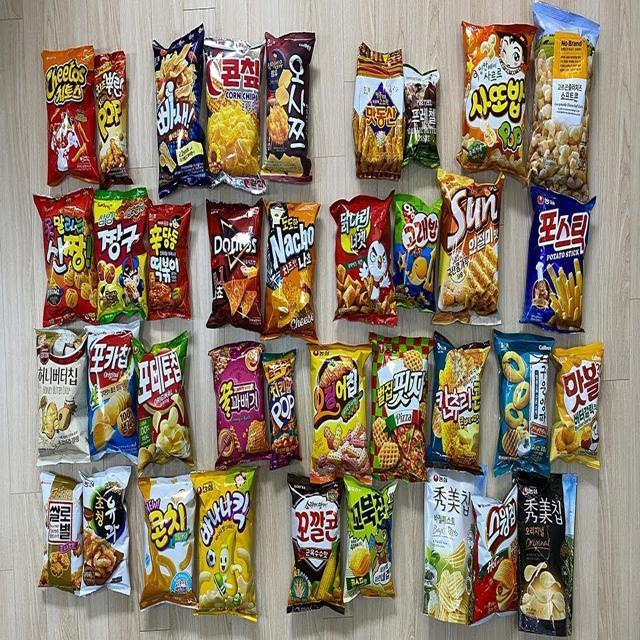product: (537, 6, 597, 198), (514, 473, 576, 634), (461, 21, 523, 174), (189, 474, 256, 613), (439, 170, 505, 309), (367, 339, 430, 478), (495, 326, 552, 466), (427, 473, 484, 612), (208, 40, 262, 186), (154, 40, 207, 186), (528, 191, 584, 327), (288, 483, 345, 607), (269, 199, 319, 340), (337, 205, 398, 320), (85, 323, 139, 452), (261, 32, 309, 176), (208, 206, 264, 326), (315, 348, 367, 472), (38, 196, 91, 315), (209, 354, 267, 460), (95, 196, 147, 313), (138, 486, 194, 594), (34, 334, 88, 446), (43, 53, 92, 176), (358, 49, 405, 177), (340, 485, 397, 590), (80, 476, 129, 597), (435, 342, 483, 463), (141, 347, 195, 454), (470, 496, 520, 609), (41, 469, 87, 590), (147, 210, 192, 320), (557, 350, 599, 465), (394, 194, 436, 302), (94, 59, 128, 174), (266, 360, 298, 461), (406, 72, 438, 158)
